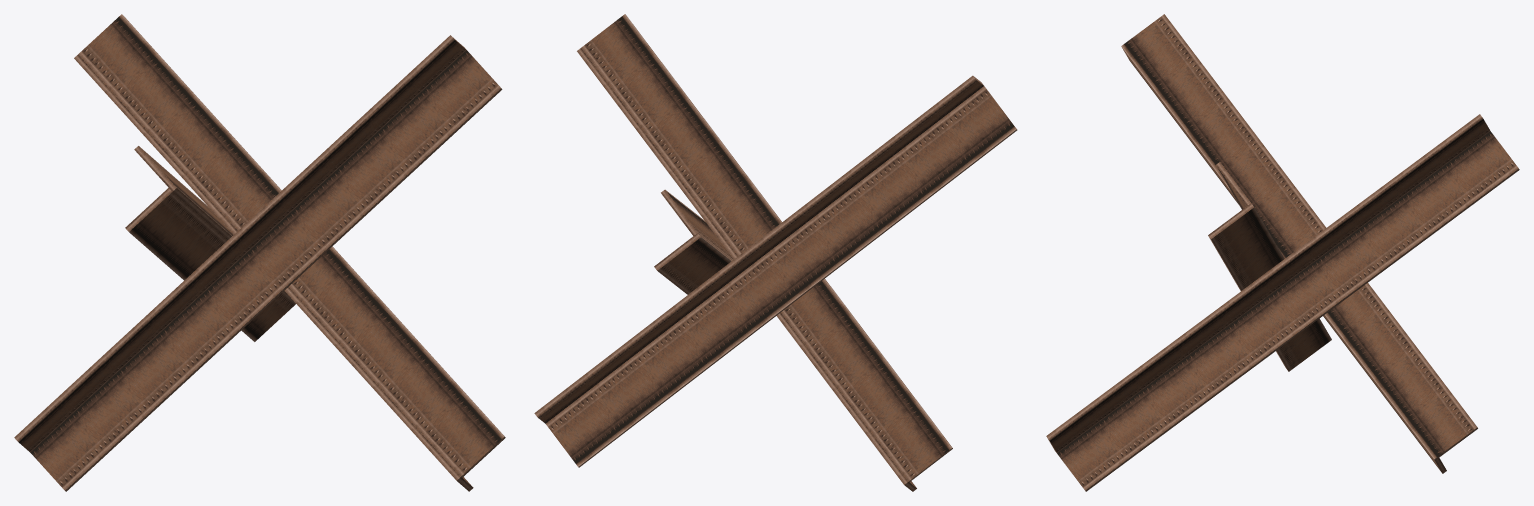
Rendered from tank_barrier.fbx.
3 views of the same model, side by side, from view 1: azimuth 30°, elevation 25°; view 2: azimuth 150°, elevation 25°; view 3: azimuth 270°, elevation 25° (orthographic). The views are drawn at different scales.
Visible parts, largest first — view 1: tank_barrier; view 2: tank_barrier; view 3: tank_barrier.
Boxes of the visible parts, box(x1,y1,x2,y2) form: tank_barrier: box(14, 14, 505, 491); tank_barrier: box(534, 14, 1017, 491); tank_barrier: box(1046, 14, 1519, 491).
Size of the model in its own units: 857 by 743 by 876.
Materials: 1 (1 with a texture image).
